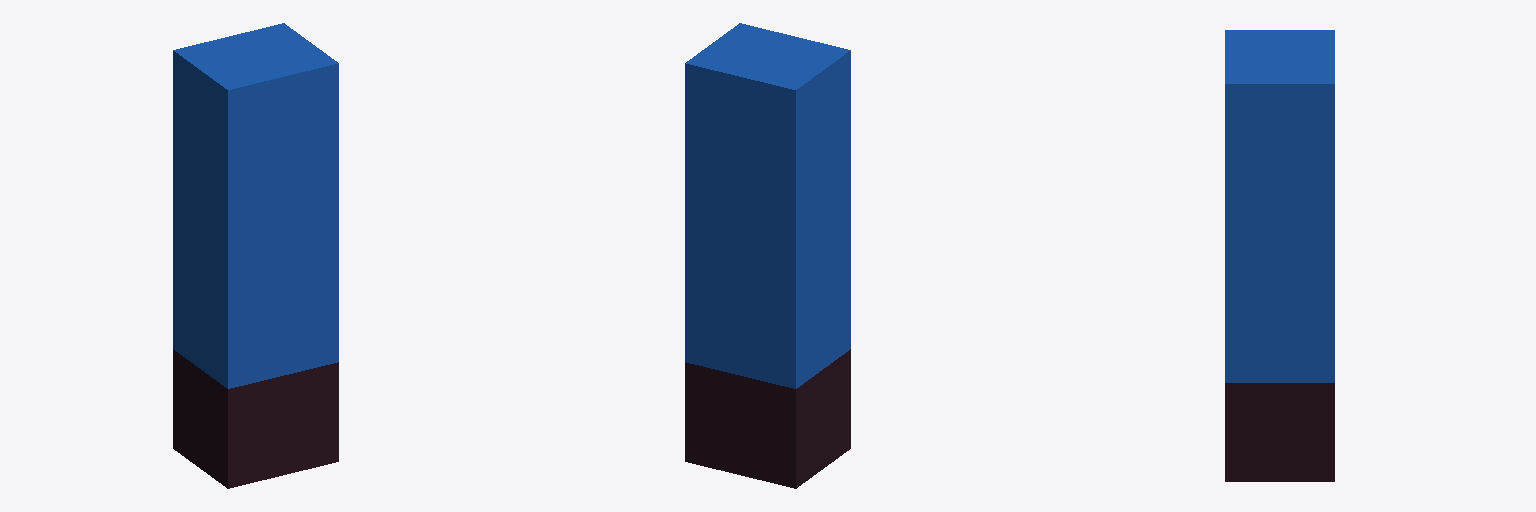
The model's file is leg.obj.
3 views of the same model, side by side, from view 1: azimuth 30°, elevation 25°; view 2: azimuth 150°, elevation 25°; view 3: azimuth 270°, elevation 25° (orthographic).
Bounding box in the file's own units: 0.7 × 2.4 × 0.6.